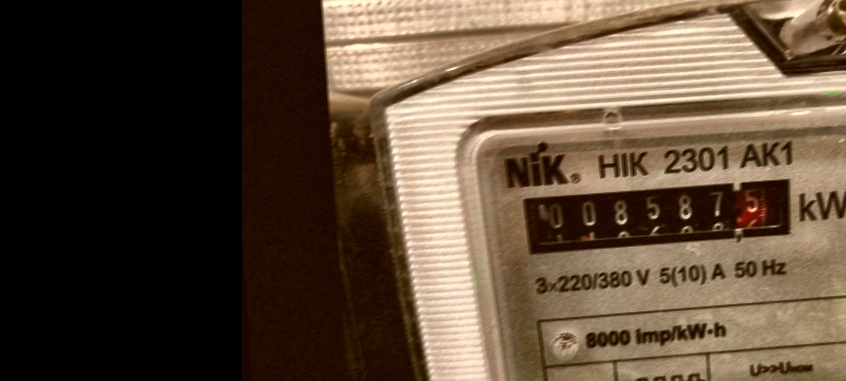0: (547, 200, 566, 231), (581, 199, 600, 228)
5: (745, 187, 764, 217), (645, 194, 664, 223)
7: (709, 188, 728, 219)
8: (677, 191, 696, 223), (613, 198, 631, 227)
screen: (506, 164, 813, 267)
